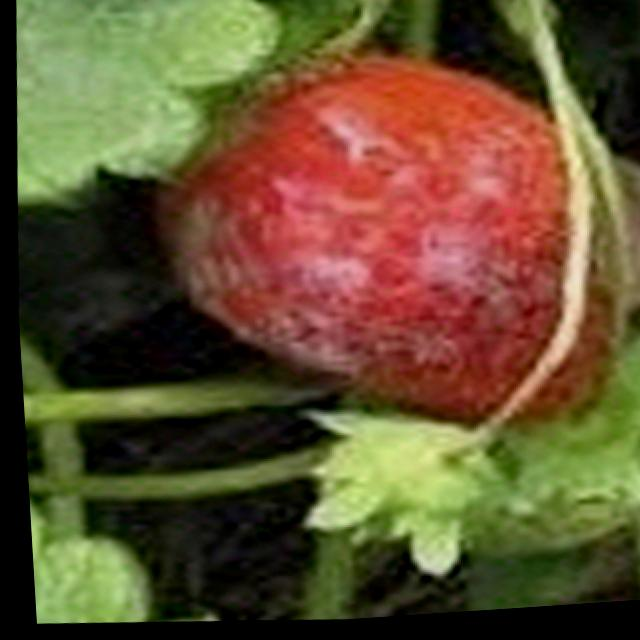Powdery Mildew Fruit: (155, 63, 618, 428)
